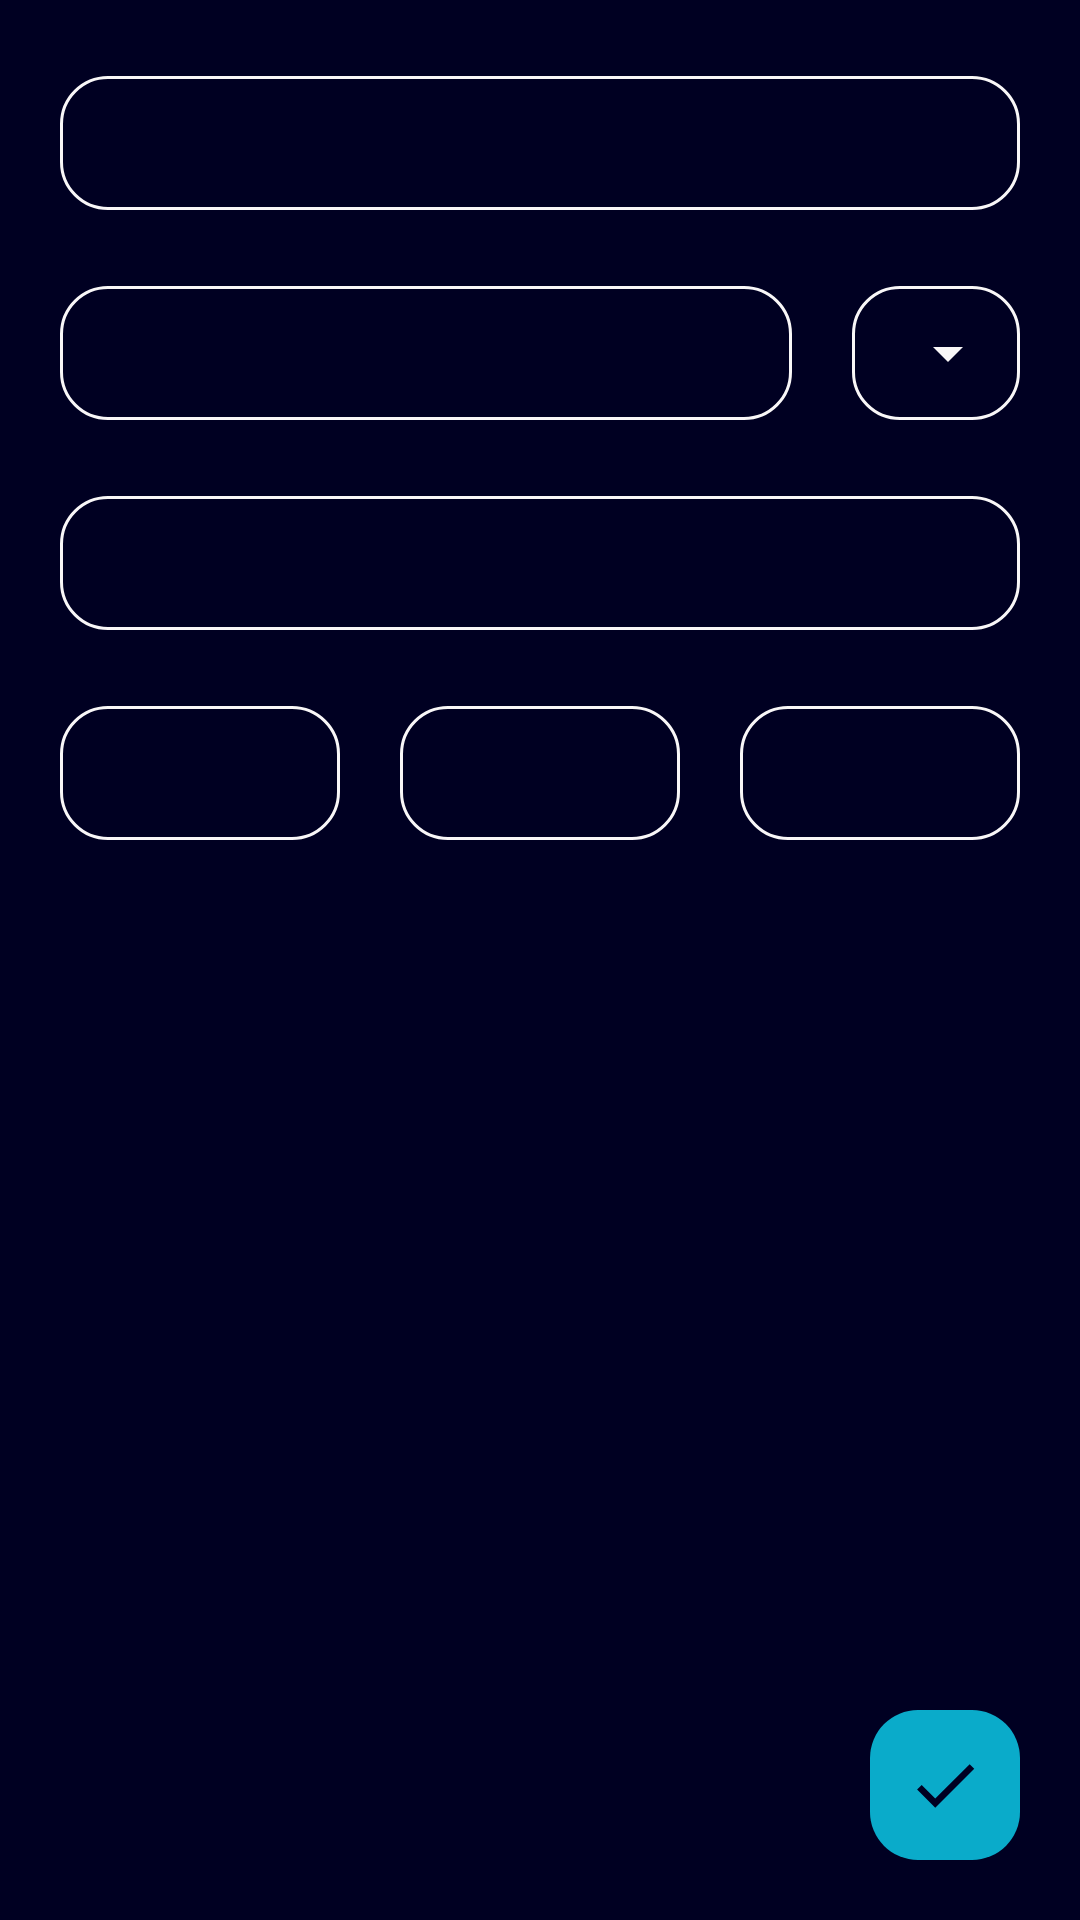

Icons on this 1080px x 1920px Android screen, each with the point to tap as [x,y]:
Confirm: [945,1785]
